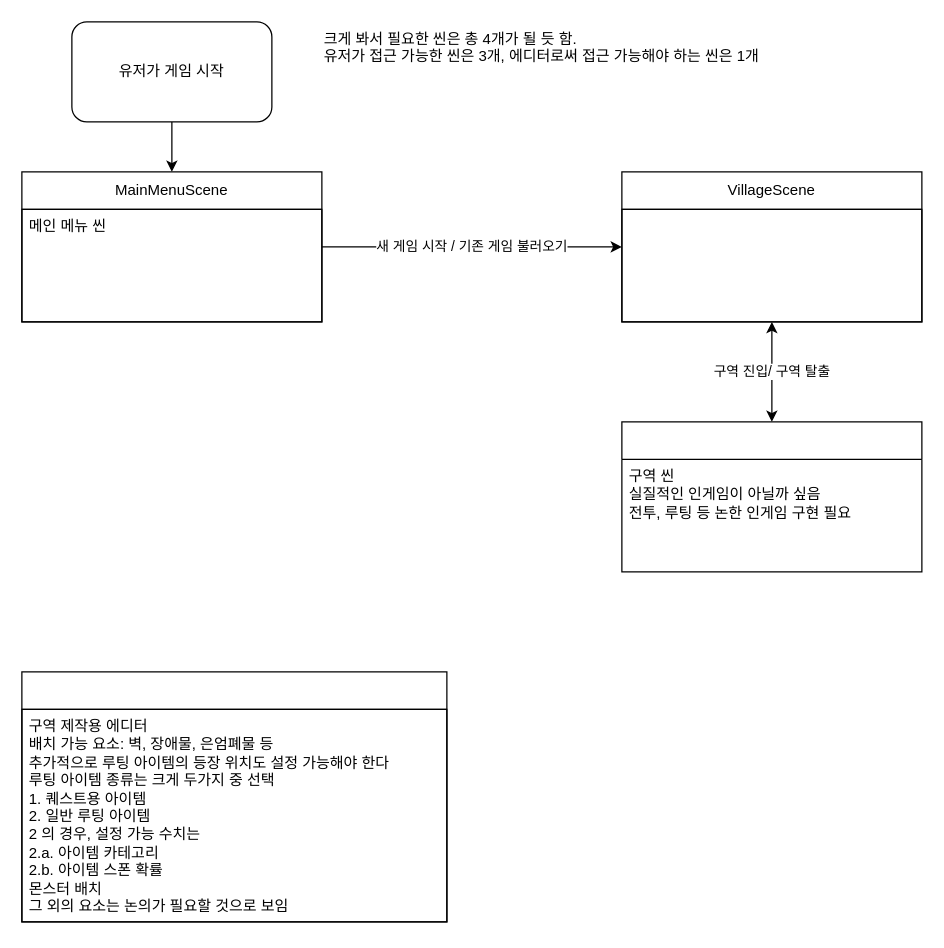
Some shapes in this 944 by 948 pixel diagram are drawn without their labels. Each missing label, with the box of its shape:
SectionEditorScene: (21, 671, 447, 922)
SectionScene: (621, 421, 922, 572)
공동체 씬 마을 내부를 돌아다닐 수 있다 루팅은 불가능 대신 npc들과 상호작용 가능하고, 상점 등등 편의시설 이용 가능: (621, 208, 922, 322)
